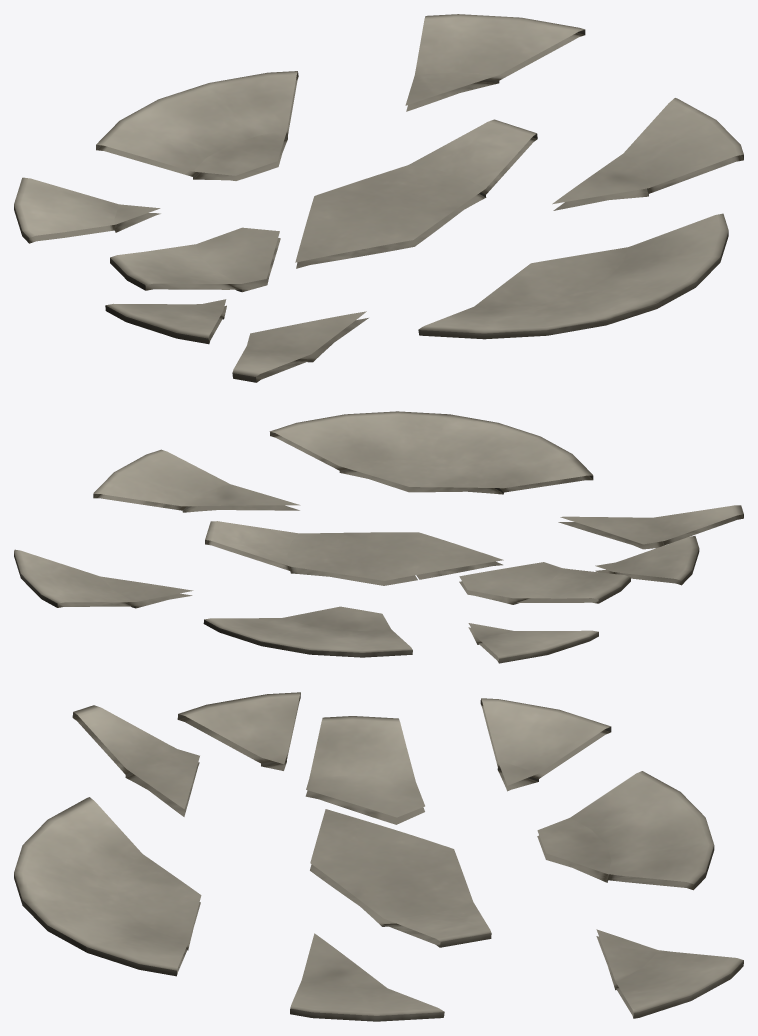
Rendered from SM_PlateShattered.fbx.
3 views of the same model, one above another, from view 1: azimuth 30°, elevation 25°; view 2: azimuth 150°, elevation 25°; view 3: azimuth 270°, elevation 25° (orthographic). The views are drawn at different scales.
Visible parts, largest first — view 1: SM_PlateShattered_LOD0; view 2: SM_PlateShattered_LOD0; view 3: SM_PlateShattered_LOD0.
Part boxes in pixels (bbox=[...]): SM_PlateShattered_LOD0: bbox=[14, 14, 743, 382]; SM_PlateShattered_LOD0: bbox=[14, 411, 743, 663]; SM_PlateShattered_LOD0: bbox=[14, 692, 743, 1021].
Size of the model in its own units: 53.48 by 50.97 by 1.9.
1 material, 1 textured.
